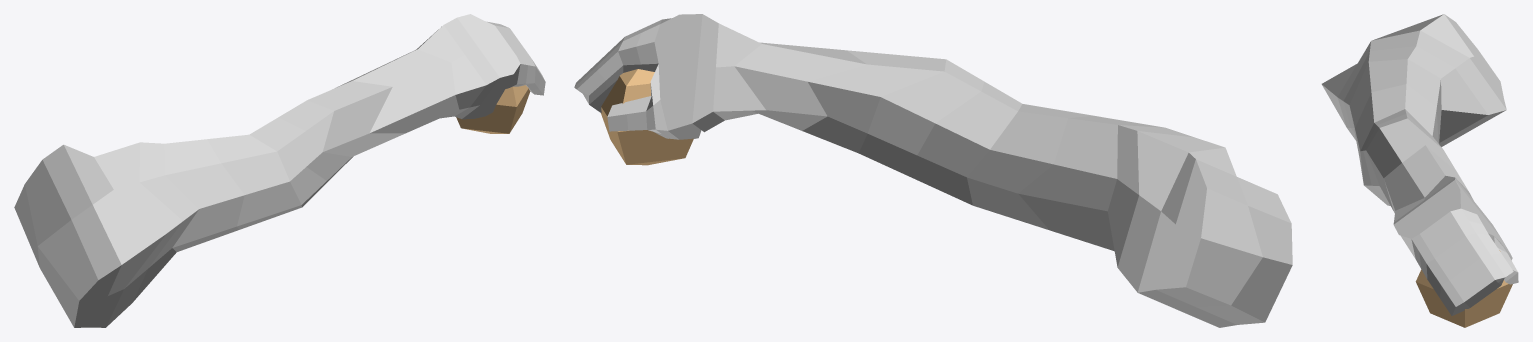
File: fiber_viewport.fbx
3 renders of one model, left to right at view 1: azimuth 30°, elevation 25°; view 2: azimuth 150°, elevation 25°; view 3: azimuth 270°, elevation 25°, orthographic. The views are drawn at different scales.
Visible parts, largest first — view 1: Sphere; view 2: Sphere; view 3: Sphere.
Boxes of the visible parts, box(x1,y1,x2,y2) form: Sphere: box(14, 14, 545, 327); Sphere: box(574, 14, 1292, 327); Sphere: box(1321, 14, 1518, 327).
Bounding box in the file's own units: 154 × 52.88 × 50.86.
